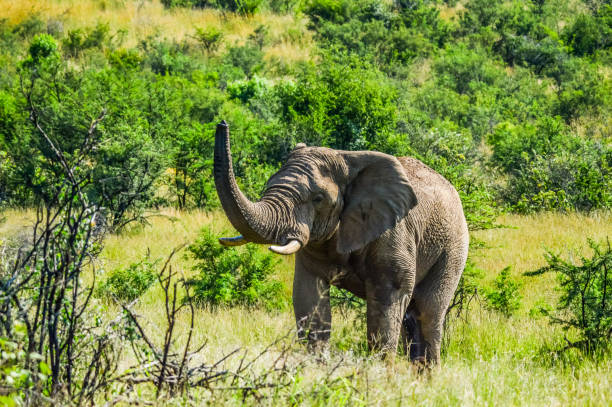africanelephant: (205, 116, 393, 271)
